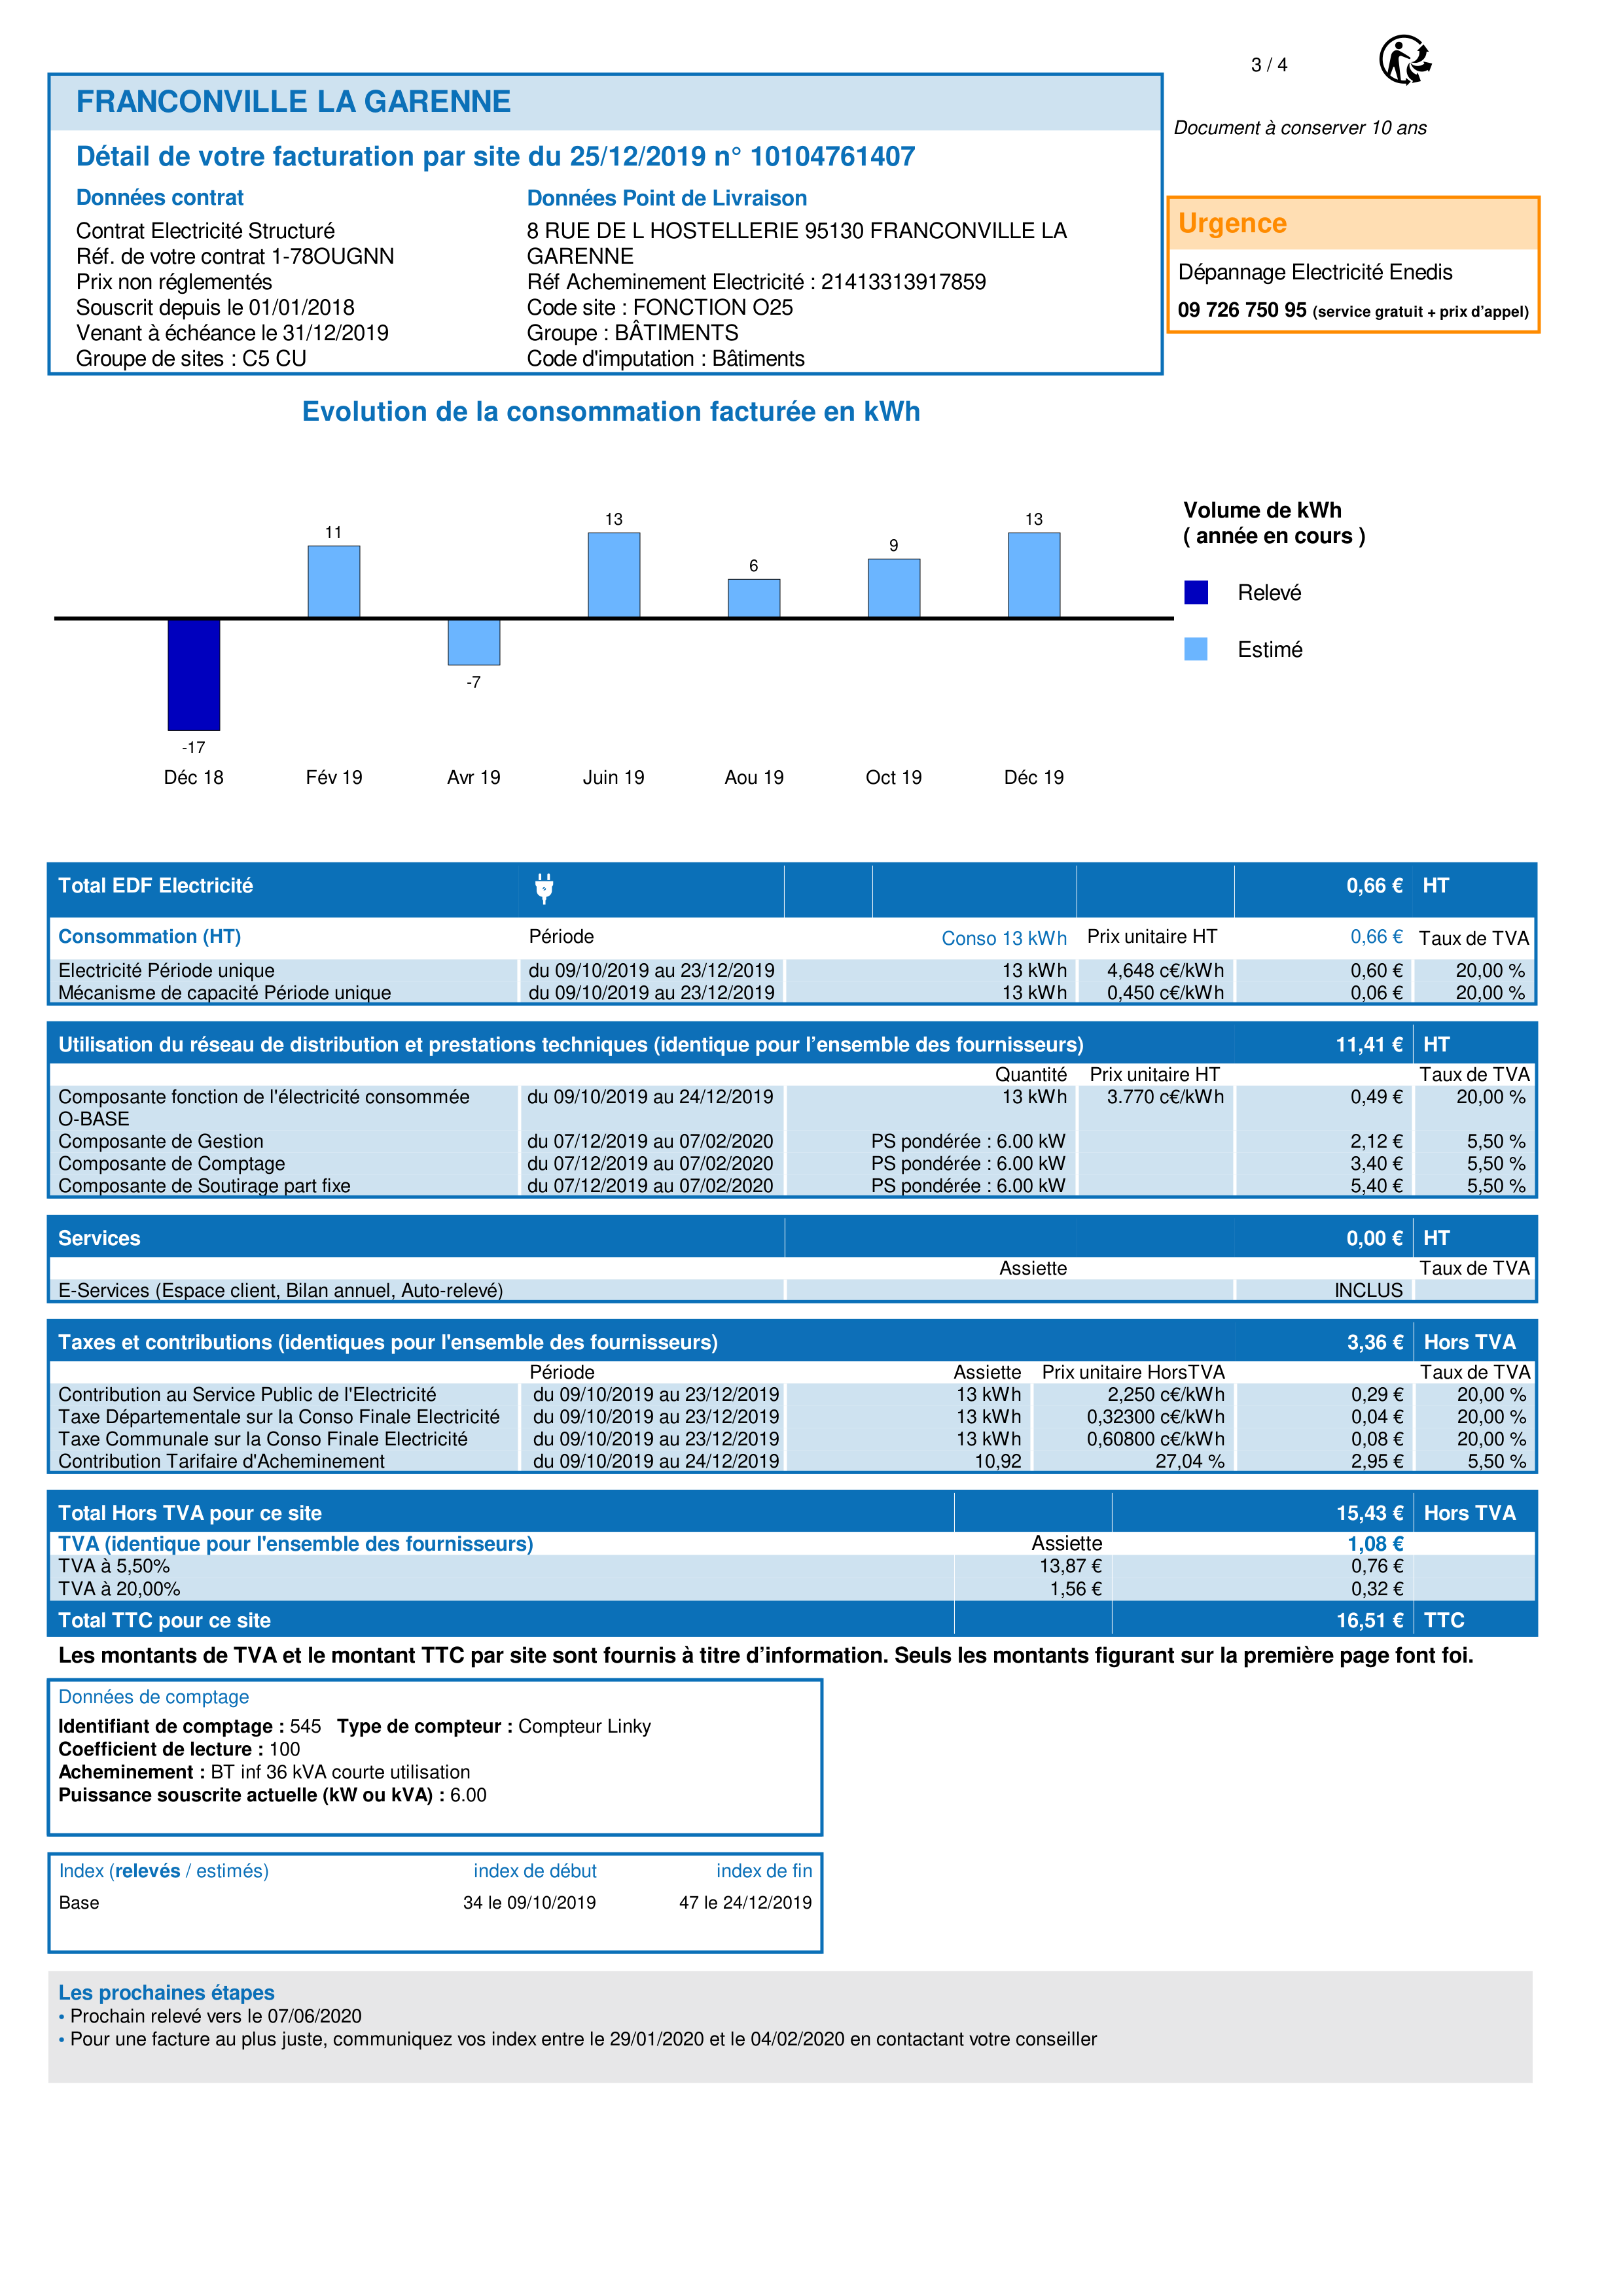area: (48, 1854, 824, 1953)
type_indicator: (48, 1855, 277, 1888)
